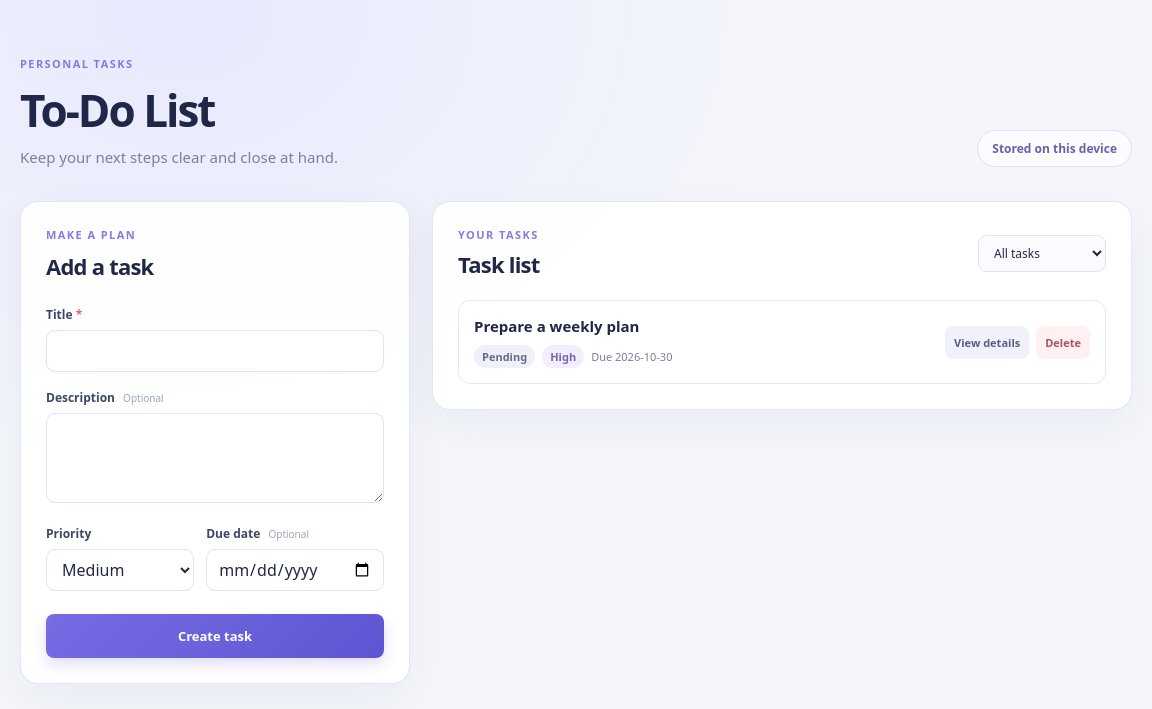
Test: task list and creation UI (P-US-01, P-US-02, P-US-05) › loads full details through the inspect route
What coordinates should you click on to do the following:
click the button "View details"
I would click on:
 (987, 342)
Its box is x1=945 y1=326 x2=1029 y2=358.
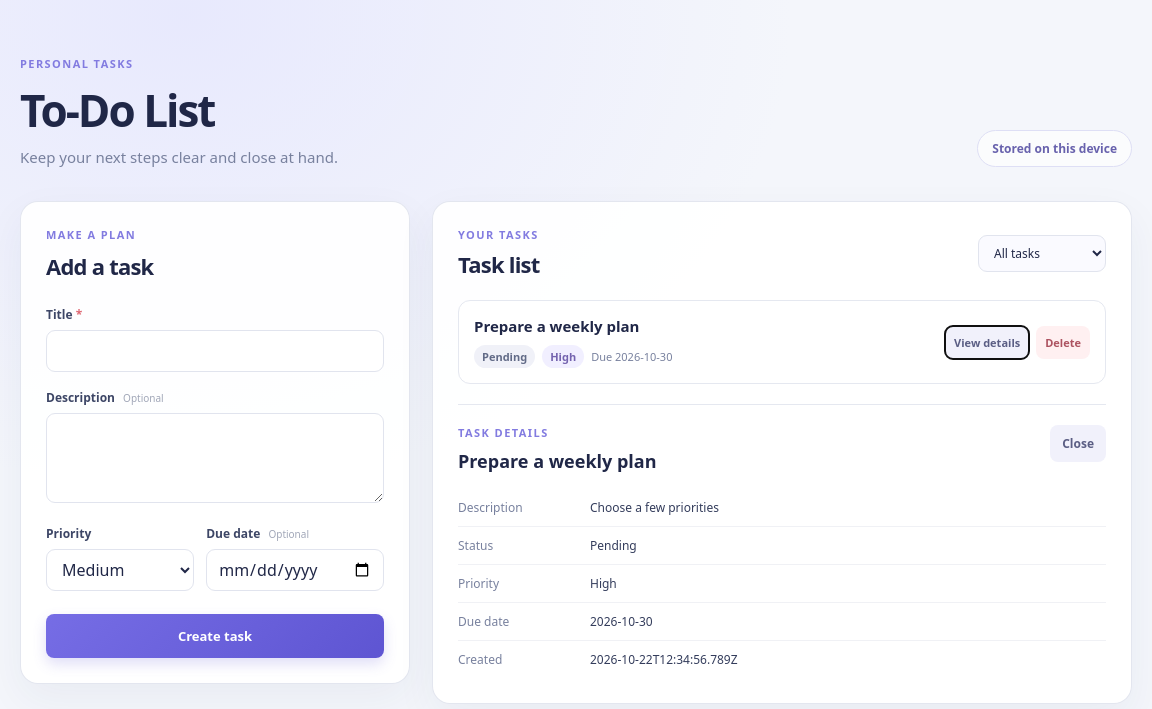
Check: the heading with id "detail-heading" reads "Prepare a weekly plan", box x1=458 y1=449 x2=656 y2=473
Check: the text "Choose a few priorities" is shown, box x1=590 y1=499 x2=719 y2=516
Check: the text "2026-10-22T12:34:56.789Z" is shown, box x1=590 y1=651 x2=738 y2=668
